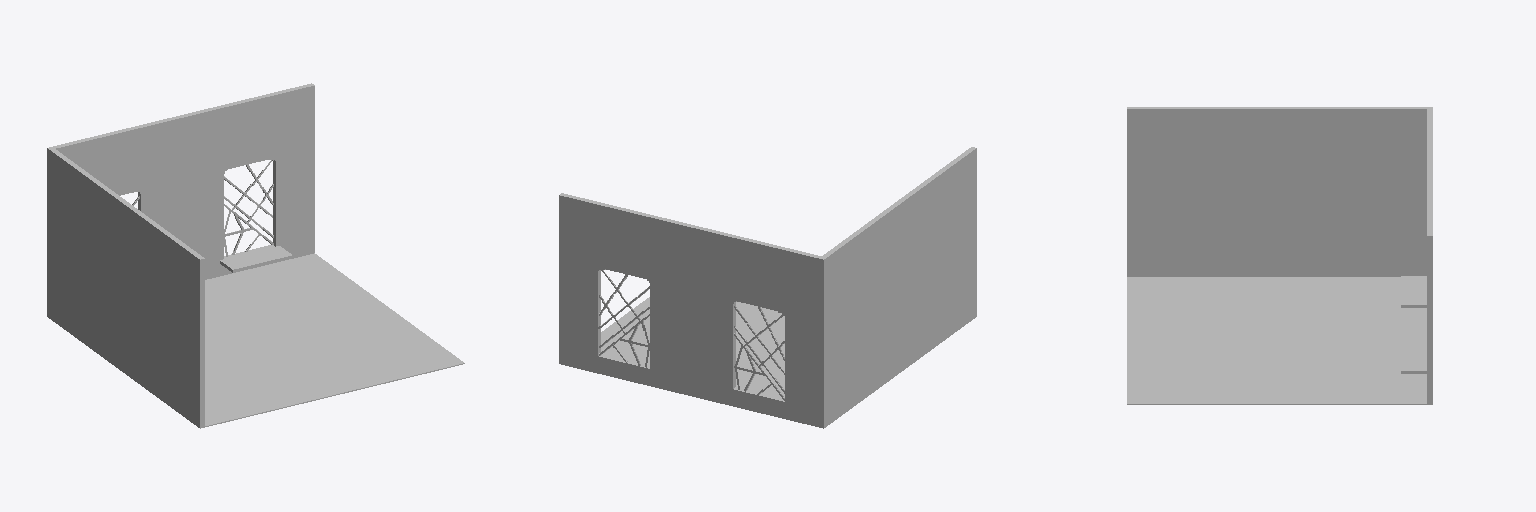
Rendered from room2.obj.
The picture shows the model from 3 angles: view 1: azimuth 30°, elevation 25°; view 2: azimuth 150°, elevation 25°; view 3: azimuth 270°, elevation 25°; orthographic projection.
Visible parts, largest first — view 1: object 1; view 2: object 1; view 3: object 1.
Boxes of the visible parts, <box> form: object 1: <box>47,83,464,428</box>; object 1: <box>559,147,976,428</box>; object 1: <box>1127,107,1432,404</box>.
Bounding box in the file's own units: 25.6 × 15.6 × 25.6.